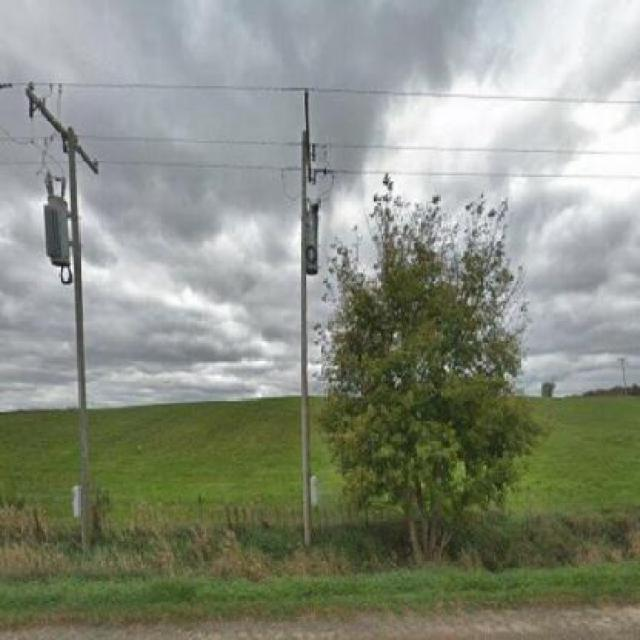pole: (24, 70, 118, 552), (271, 78, 338, 540)
